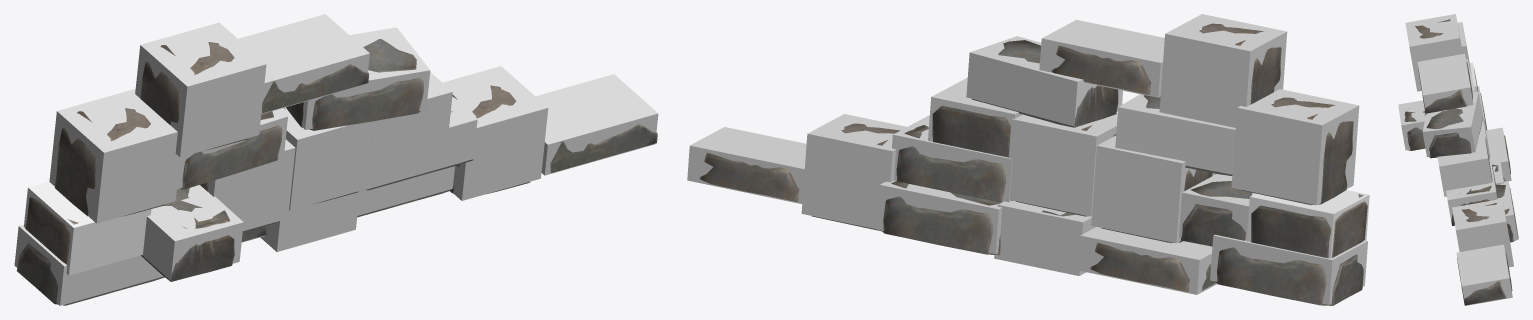
File: Wall_A.fbx
3 renders of one model, left to right at view 1: azimuth 30°, elevation 25°; view 2: azimuth 150°, elevation 25°; view 3: azimuth 270°, elevation 25°, orthographic. The views are drawn at different scales.
Parts seen in each view (by area): view 1: Cube_15, Cube_16, Cube_13, Cube_8, Cube_9, Cube_14, Rock_A2__4_, Cube, Cube_2, Cube_12, Cube_6, Cube_3 (+14 smaller); view 2: Cube_16, Cube_15, Cube_13, Cube_14, Cube_12, Cube_4, Cube_5, Rock_A2__1_, Cube_11, Cube_9, Rock_A2__2_, Rock_A5__1_ (+19 smaller); view 3: Cube_13, Cube_8, Cube_15, Cube_9, Cube_1, Cube_4, Rock_A2__4_, Cube_6, Cube_2, Cube_10, Rock_A1__2_, Rock_A1__3_ (+10 smaller).
Boxes of the visible parts, x1,y1,x2,y2 form: Cube_15: (135, 22, 266, 157); Cube_16: (49, 89, 180, 223); Cube_13: (443, 66, 548, 200); Cube_8: (536, 74, 658, 175); Cube_9: (238, 14, 369, 113); Cube_14: (279, 107, 373, 210); Rock_A2__4_: (286, 39, 424, 130); Cube: (24, 181, 151, 275); Cube_2: (142, 185, 243, 280); Cube_12: (208, 139, 295, 231); Cube_6: (362, 97, 477, 190); Cube_3: (14, 224, 163, 305); Cube_16: (1231, 89, 1359, 205); Cube_15: (1159, 14, 1287, 127); Cube_13: (801, 114, 906, 229); Cube_14: (1008, 113, 1117, 216); Cube_12: (1091, 135, 1216, 243); Cube_4: (966, 36, 1122, 126); Cube_5: (1115, 94, 1235, 174); Rock_A2__1_: (1215, 247, 1363, 305); Cube_11: (994, 200, 1095, 275); Cube_9: (1039, 19, 1164, 97); Rock_A2__2_: (881, 181, 1001, 255); Rock_A5__1_: (1251, 194, 1367, 258); Cube_13: (1452, 197, 1513, 267); Cube_8: (1456, 244, 1512, 305); Cube_15: (1405, 14, 1462, 91); Cube_9: (1417, 53, 1473, 107); Cube_1: (1437, 134, 1492, 196); Cube_4: (1422, 91, 1482, 156); Rock_A2__4_: (1426, 108, 1482, 158); Cube_6: (1446, 158, 1497, 224); Cube_2: (1398, 100, 1425, 150); Cube_10: (1486, 127, 1511, 181); Rock_A1__2_: (1457, 252, 1512, 305); Rock_A1__3_: (1418, 61, 1472, 114).
Bounding box in the file's own units: 0.5951 × 0.2173 × 0.1656.
Materials: 2 (1 with a texture image).
